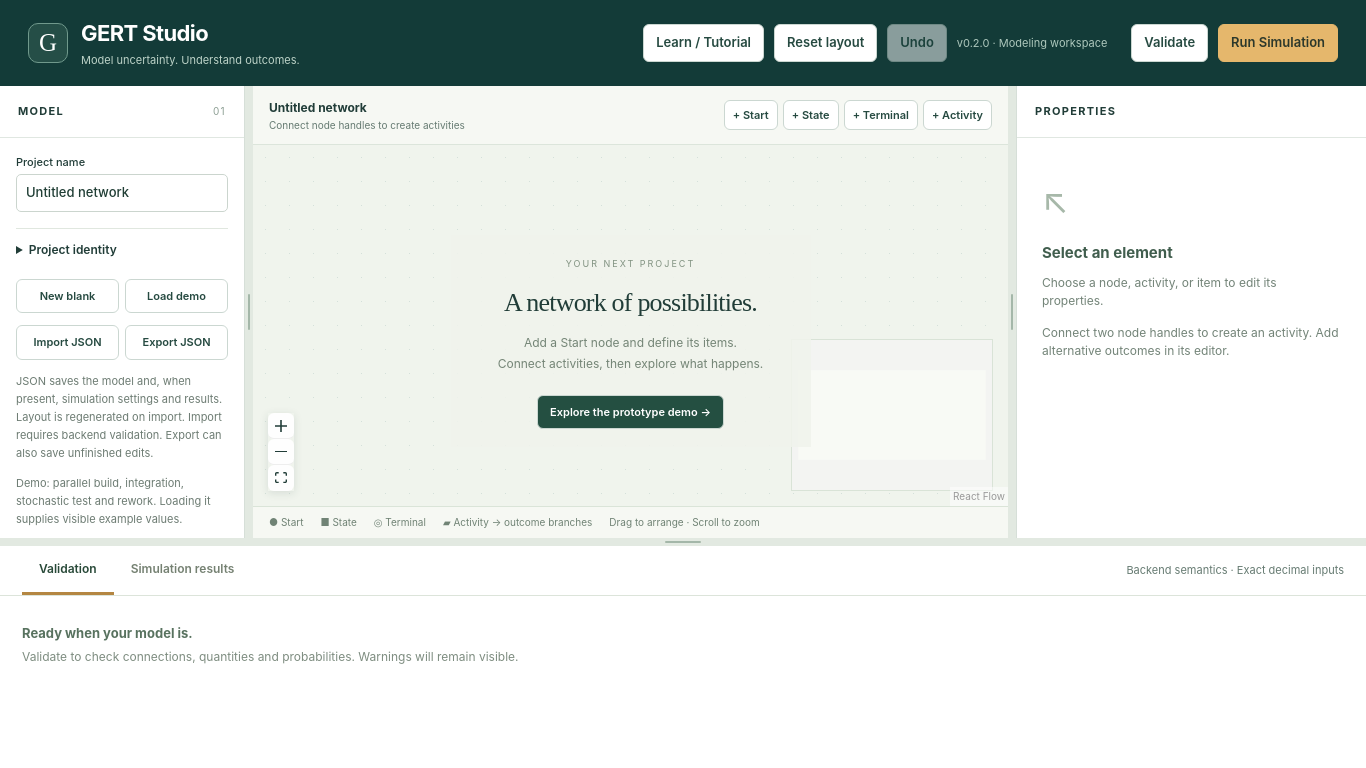
Scenario: modeling workspace › deletes an activity without deleting its target nodes
The width and height of the screenshot is (1366, 768).
Step 1. Click the button "Load demo" → (176, 296), box [125,278,228,313]
(page scrolled)
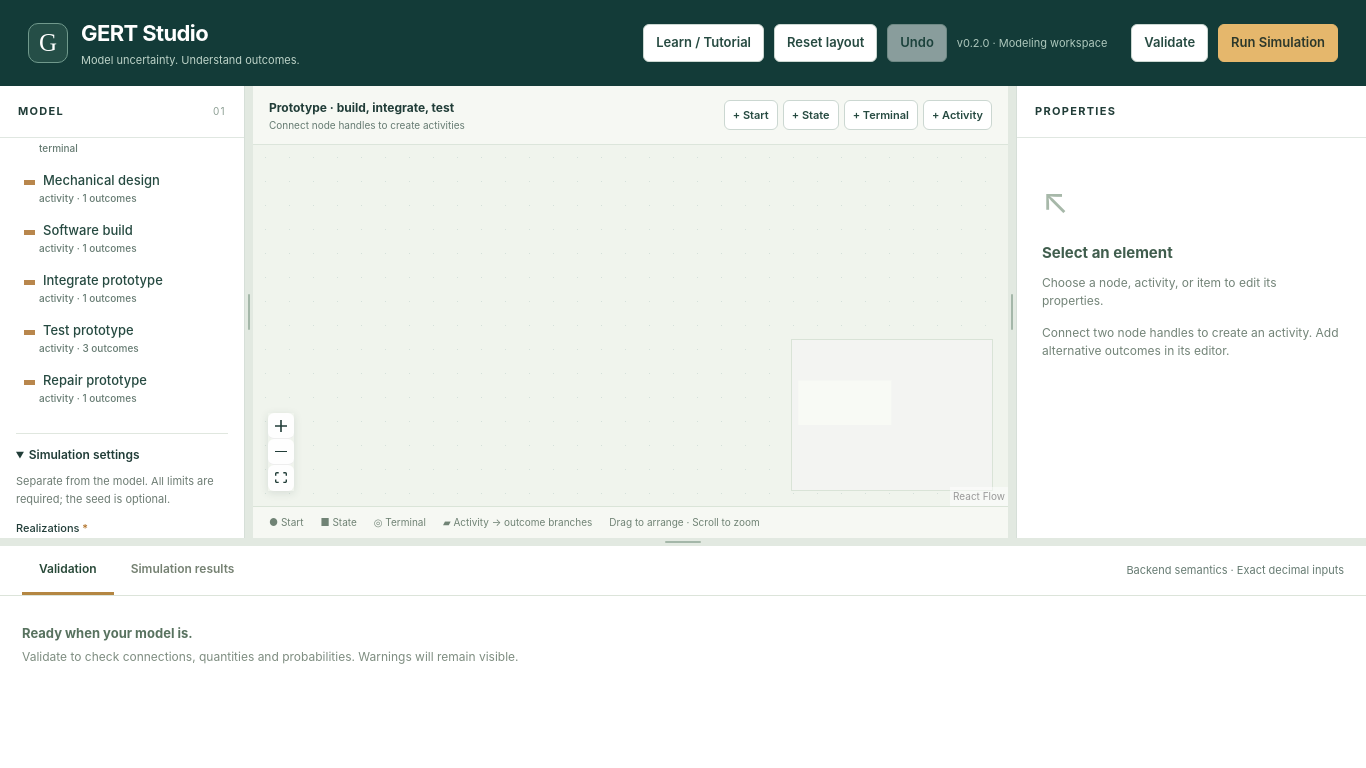
Step 2. Click the button "Test prototype activity · 3 outcomes" → (122, 338), box [16,313,228,363]
(page scrolled)
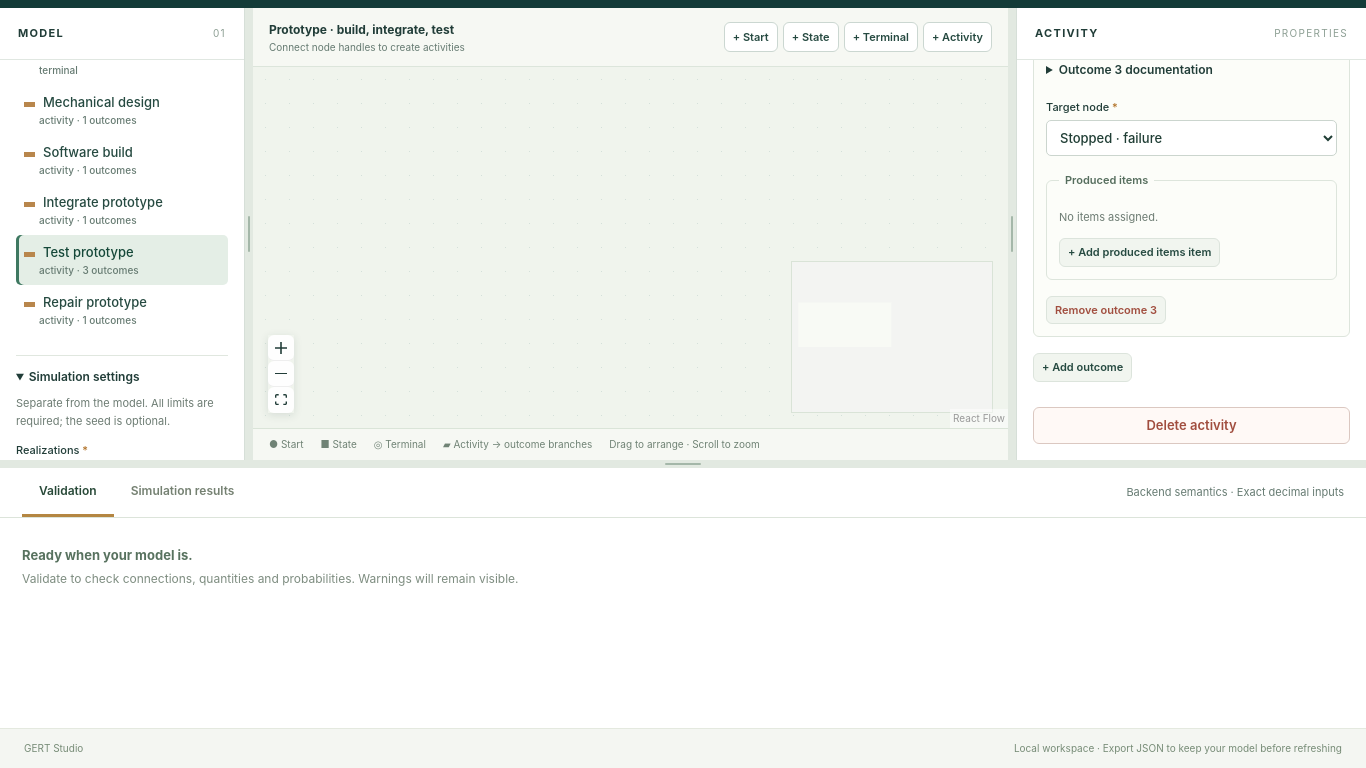
Step 3. Click the button "Delete activity" → (1192, 426), box [1033,407,1350,444]
(page scrolled)
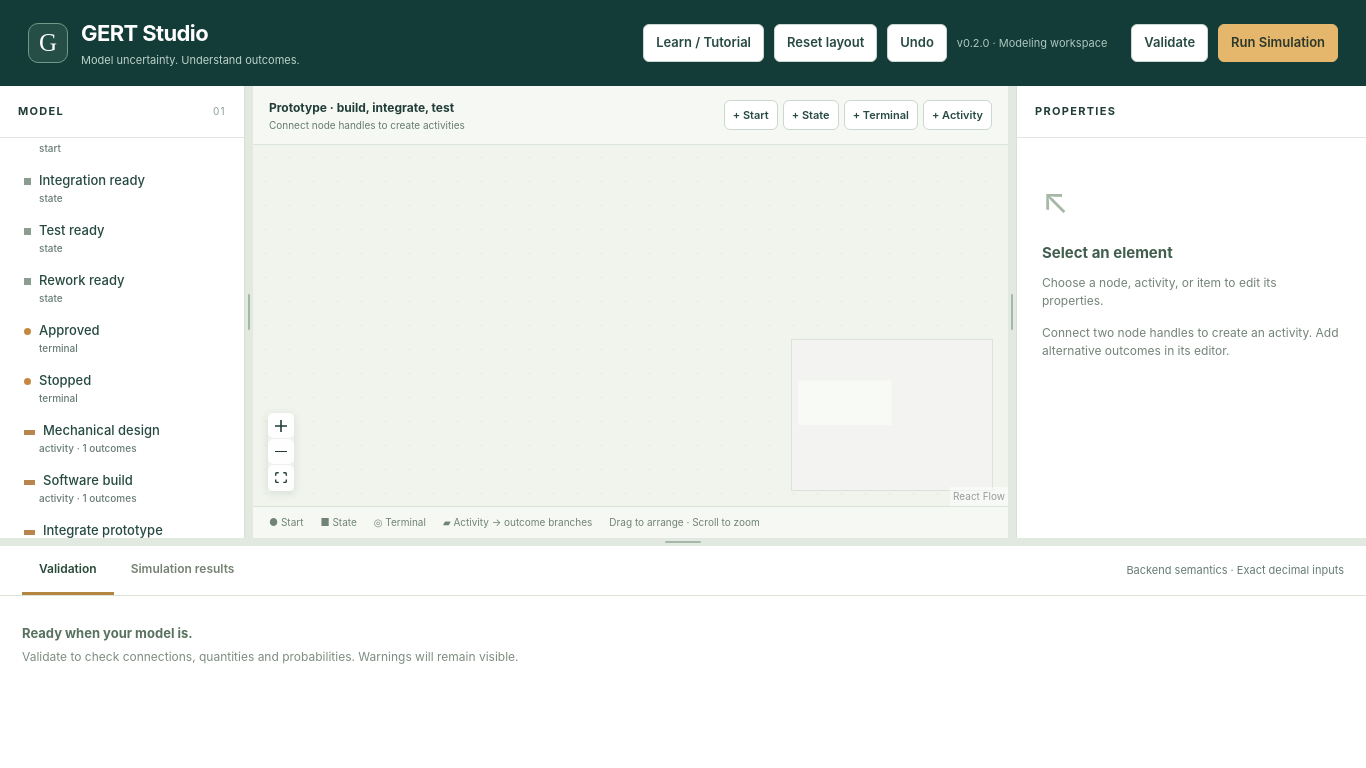
Result: the button "Test prototype" is gone
Result: the button "Approved terminal" is shown at [16,313,228,363]
